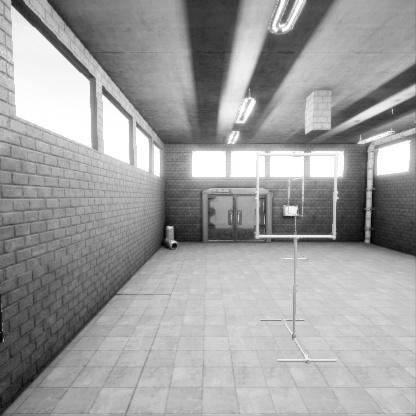gate: (257, 182, 340, 264), (288, 201, 304, 240)
